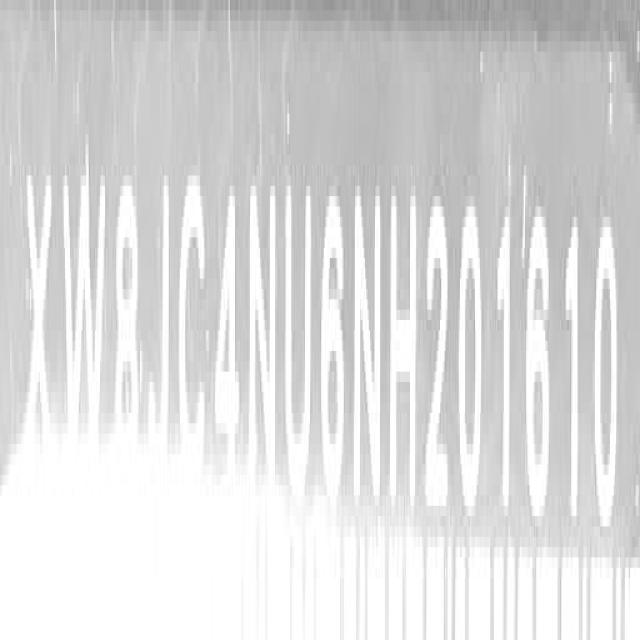0: (459, 192, 486, 530), (595, 214, 622, 542), (288, 172, 314, 500)
1: (496, 197, 519, 532), (563, 205, 582, 544)
2: (424, 189, 452, 530), (182, 164, 210, 477)
4: (214, 195, 242, 505)
6: (525, 198, 553, 530), (320, 176, 345, 510)
8: (116, 172, 143, 462)
H: (391, 175, 420, 523)
J: (148, 160, 174, 486)
N: (353, 174, 384, 517), (251, 172, 280, 492)
W: (62, 160, 108, 460)
X: (22, 162, 56, 472)
